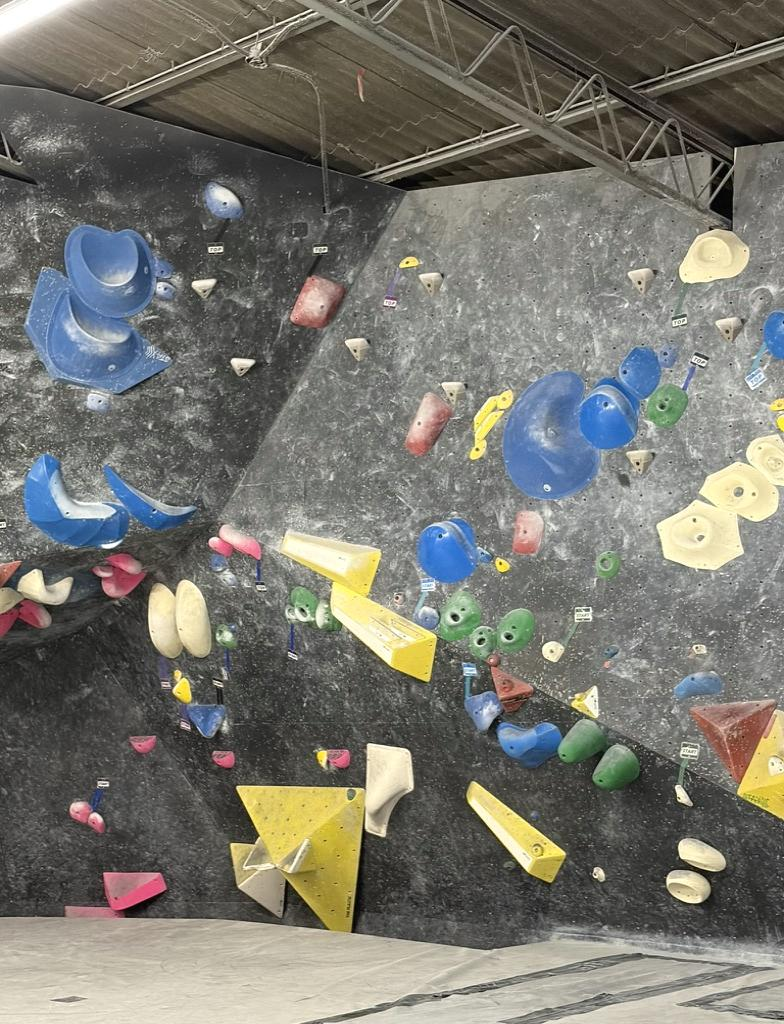crimp: (475, 396, 500, 432), (391, 619, 427, 643), (475, 410, 502, 442), (370, 615, 400, 642), (542, 641, 564, 662), (87, 393, 112, 411), (156, 280, 176, 300), (398, 256, 419, 268)
downhold: (628, 268, 653, 293), (626, 450, 653, 473), (717, 317, 742, 341), (419, 272, 443, 296), (441, 382, 464, 405), (345, 339, 369, 361), (191, 278, 216, 298), (230, 358, 255, 376)
jib: (593, 866, 605, 882), (692, 644, 706, 655), (487, 655, 498, 666), (530, 811, 538, 820), (504, 861, 513, 868)
jug: (15, 569, 72, 604), (204, 181, 242, 219), (218, 525, 260, 558), (674, 671, 723, 699), (316, 600, 341, 631), (106, 554, 141, 574), (208, 537, 233, 555), (174, 677, 191, 703), (70, 801, 90, 822), (88, 811, 105, 833), (93, 565, 112, 577)
ledge: (331, 583, 435, 681), (468, 782, 565, 882), (24, 455, 128, 547), (48, 290, 145, 381), (65, 225, 155, 318), (281, 530, 380, 594), (104, 465, 195, 529)
pocket: (657, 501, 743, 569), (699, 462, 777, 521), (679, 229, 748, 283), (440, 590, 481, 641), (646, 383, 687, 427), (497, 608, 535, 653), (469, 625, 497, 659), (290, 586, 315, 624), (595, 552, 620, 578), (216, 624, 236, 649)
sidepull: (502, 372, 598, 499), (364, 744, 413, 836), (291, 275, 344, 327), (175, 580, 210, 656), (149, 583, 182, 657), (619, 346, 659, 397), (512, 511, 543, 552)
sloper: (580, 378, 638, 449), (418, 518, 477, 583), (405, 392, 451, 455), (557, 718, 605, 763), (592, 744, 639, 789)
tape: (564, 607, 592, 645), (677, 742, 699, 788), (682, 352, 707, 391), (745, 344, 766, 389), (461, 662, 482, 703), (672, 285, 690, 327), (414, 580, 434, 617), (207, 221, 227, 254), (384, 269, 401, 306), (308, 245, 328, 273), (90, 779, 108, 810), (287, 623, 297, 660), (255, 560, 265, 592), (159, 657, 169, 689), (179, 704, 189, 731), (222, 649, 230, 680), (213, 678, 222, 704)
undercling: (466, 691, 502, 733), (186, 702, 225, 738), (316, 751, 330, 769)
volume: (238, 786, 364, 931), (26, 269, 170, 392), (26, 270, 169, 393), (692, 701, 775, 782), (739, 712, 783, 819), (231, 844, 285, 917), (492, 668, 532, 713)
